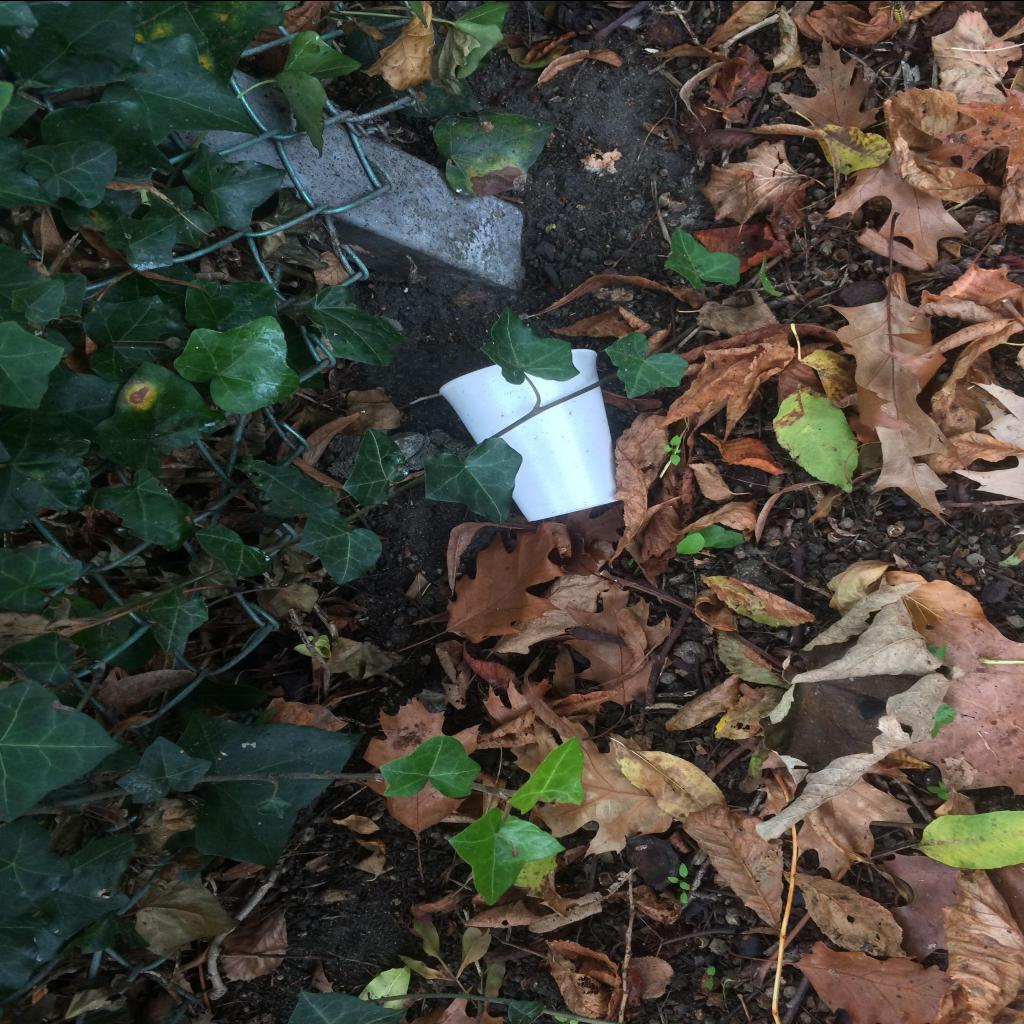Foam cup: (440, 348, 620, 520)
